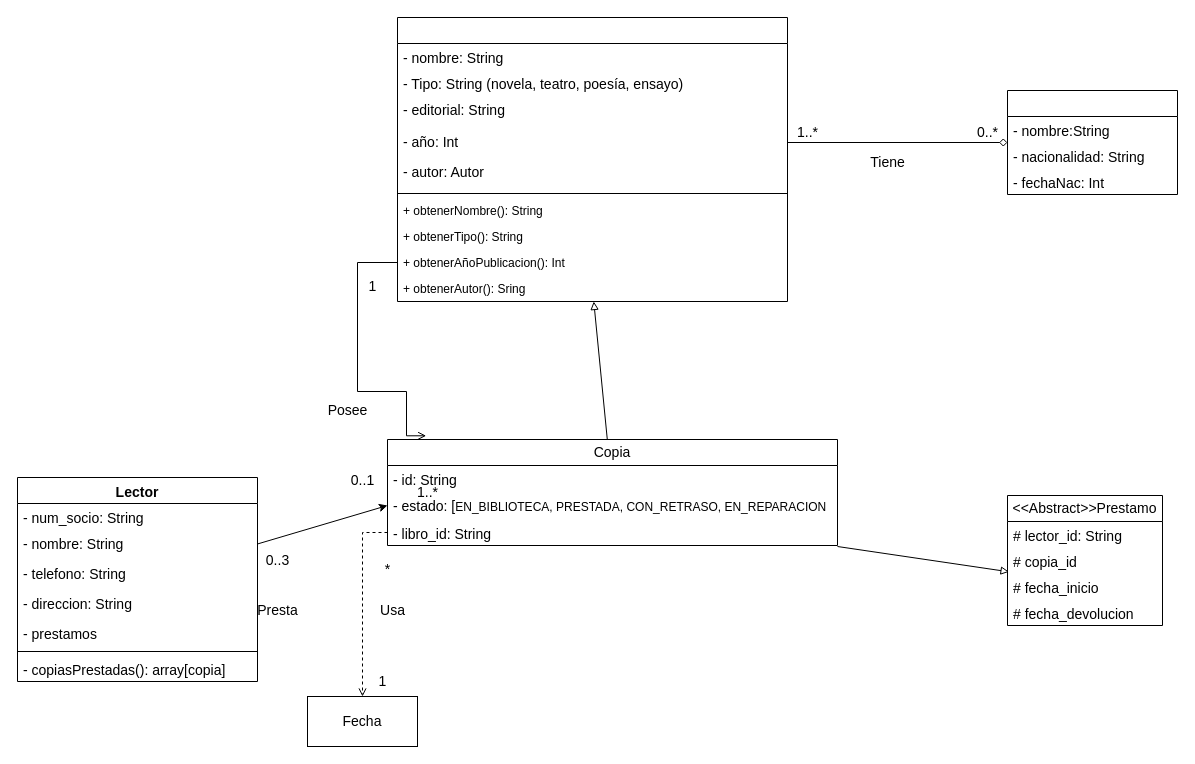
The diagram is 1195 pixels wide and 764 high, and some of its shapes have lost their labels. Each missing label, with the box of its shape:
Autor: (1006, 90, 1178, 194)
Libro: (396, 16, 788, 302)
